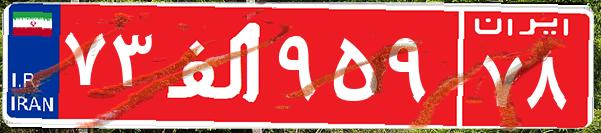3: (110, 28, 158, 105)
5: (330, 28, 385, 110)
7: (57, 26, 110, 107), (475, 38, 525, 113)
8: (525, 38, 570, 115)
9: (385, 28, 445, 110), (273, 28, 330, 110)
الف: (158, 15, 273, 115)
